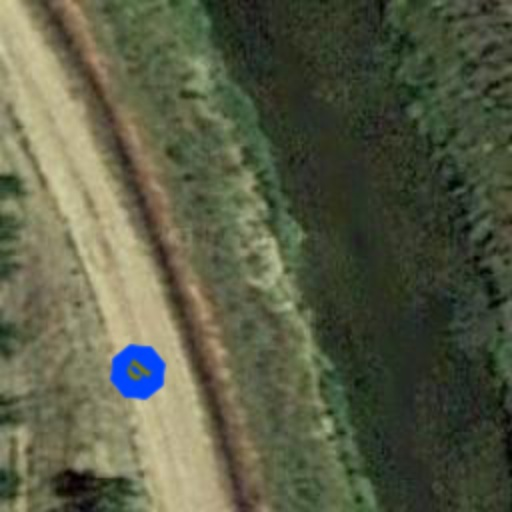octagon: (98, 332, 178, 412)
